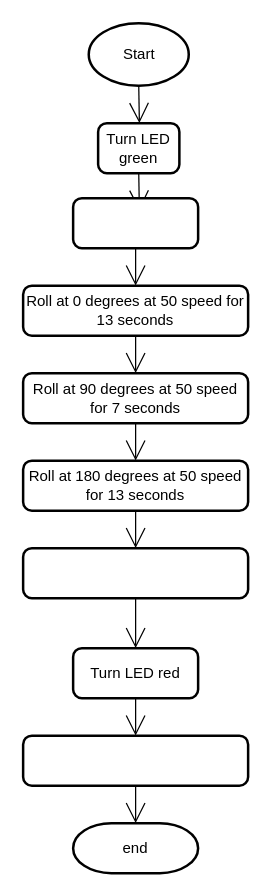
Image size: 270x895. Some labels were removed from this diagram. The shapes that lost their labels are listed below. From the top down, each one's centre as x and y in pixels, then its label:
(x=135, y=222): Speak "Ready Set Go"
(x=135, y=572): Roll at 270 degrees at 50 speed for 7 seconds
(x=135, y=760): Speak "Im done and I need water"
